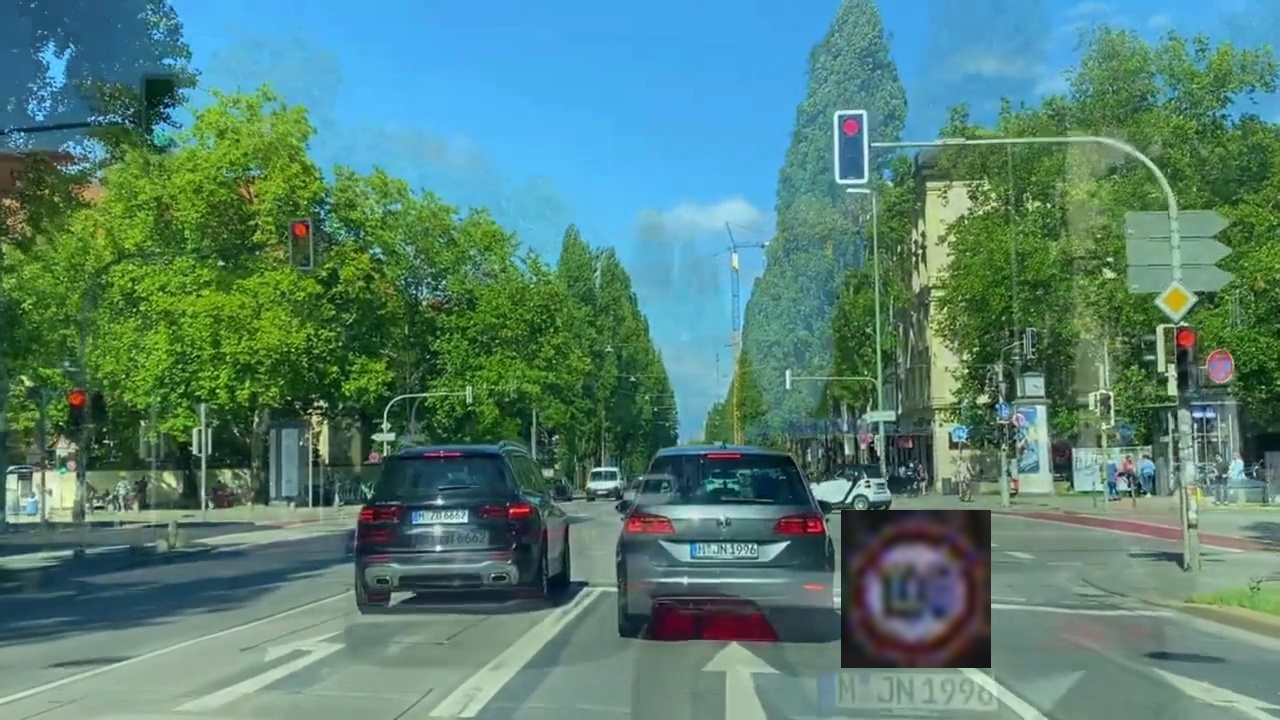Speed 100: (841, 510, 991, 668)
